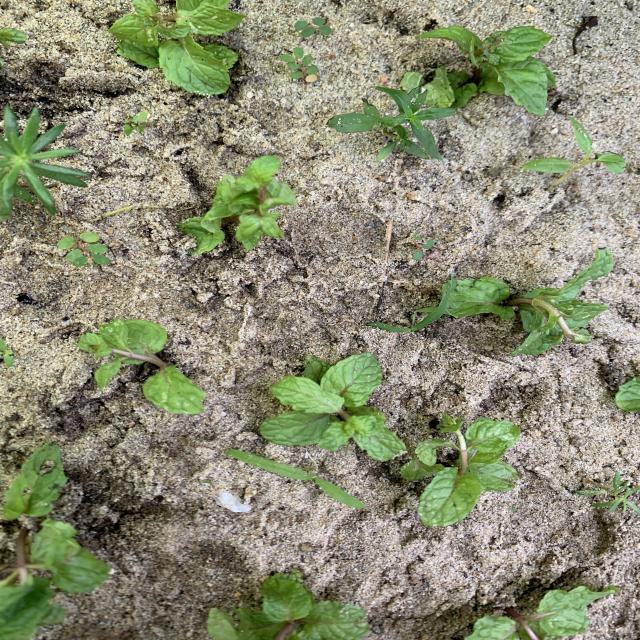crop: (2, 443, 109, 639), (449, 250, 614, 354), (260, 353, 405, 460), (400, 26, 555, 116), (402, 416, 519, 525), (110, 1, 243, 93), (79, 320, 204, 412), (178, 157, 296, 253), (206, 572, 368, 639), (464, 586, 603, 639), (616, 377, 639, 411)
weed: (0, 107, 89, 220), (331, 88, 455, 160), (227, 450, 365, 507), (524, 117, 625, 191), (369, 279, 459, 331), (576, 471, 639, 515), (58, 231, 109, 266), (280, 47, 318, 81), (409, 231, 435, 259), (293, 17, 331, 36), (95, 205, 136, 219), (124, 112, 147, 133), (1, 340, 14, 365)
